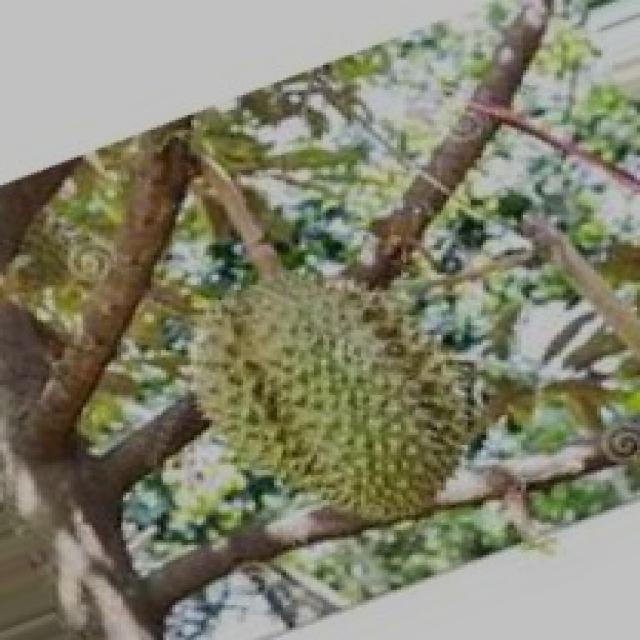fruit: (141, 230, 514, 560)
